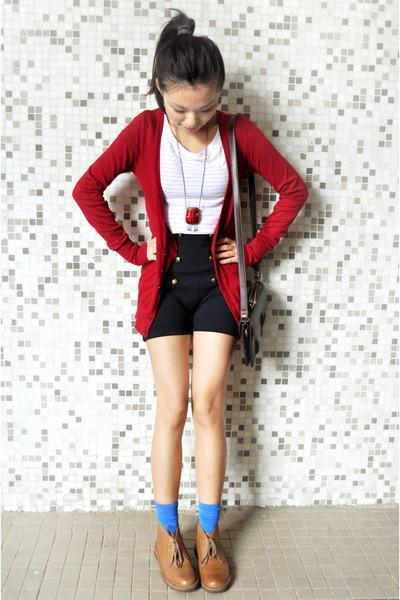Shorts: (131, 232, 254, 337)
long sleeve shirt: (70, 105, 304, 340)
vest: (149, 118, 229, 232)
